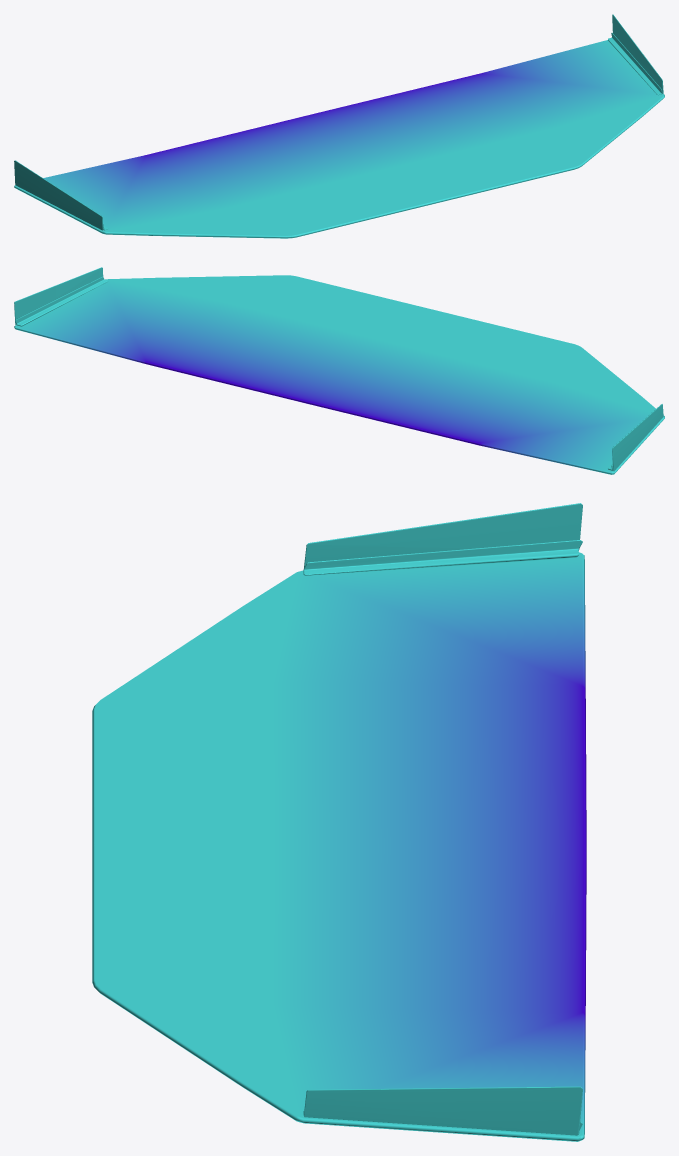
The model's file is Car_Nissan_SkylineGTRVspecR34_1999_Splitter_SetBF.fbx.
The picture shows the model from 3 angles, top to bottom: view 1: azimuth 30°, elevation 25°; view 2: azimuth 150°, elevation 25°; view 3: azimuth 270°, elevation 25°; orthographic projection. The views are drawn at different scales.
Parts seen in each view (by area): view 1: Splitter 6; view 2: Splitter 6; view 3: Splitter 6.
Boxes of the visible parts, <box> form: Splitter 6: <box>14,14,664,238</box>; Splitter 6: <box>14,267,664,474</box>; Splitter 6: <box>92,503,586,1141</box>.
Size of the model in its own units: 1.79 by 0.0859 by 0.6392.
